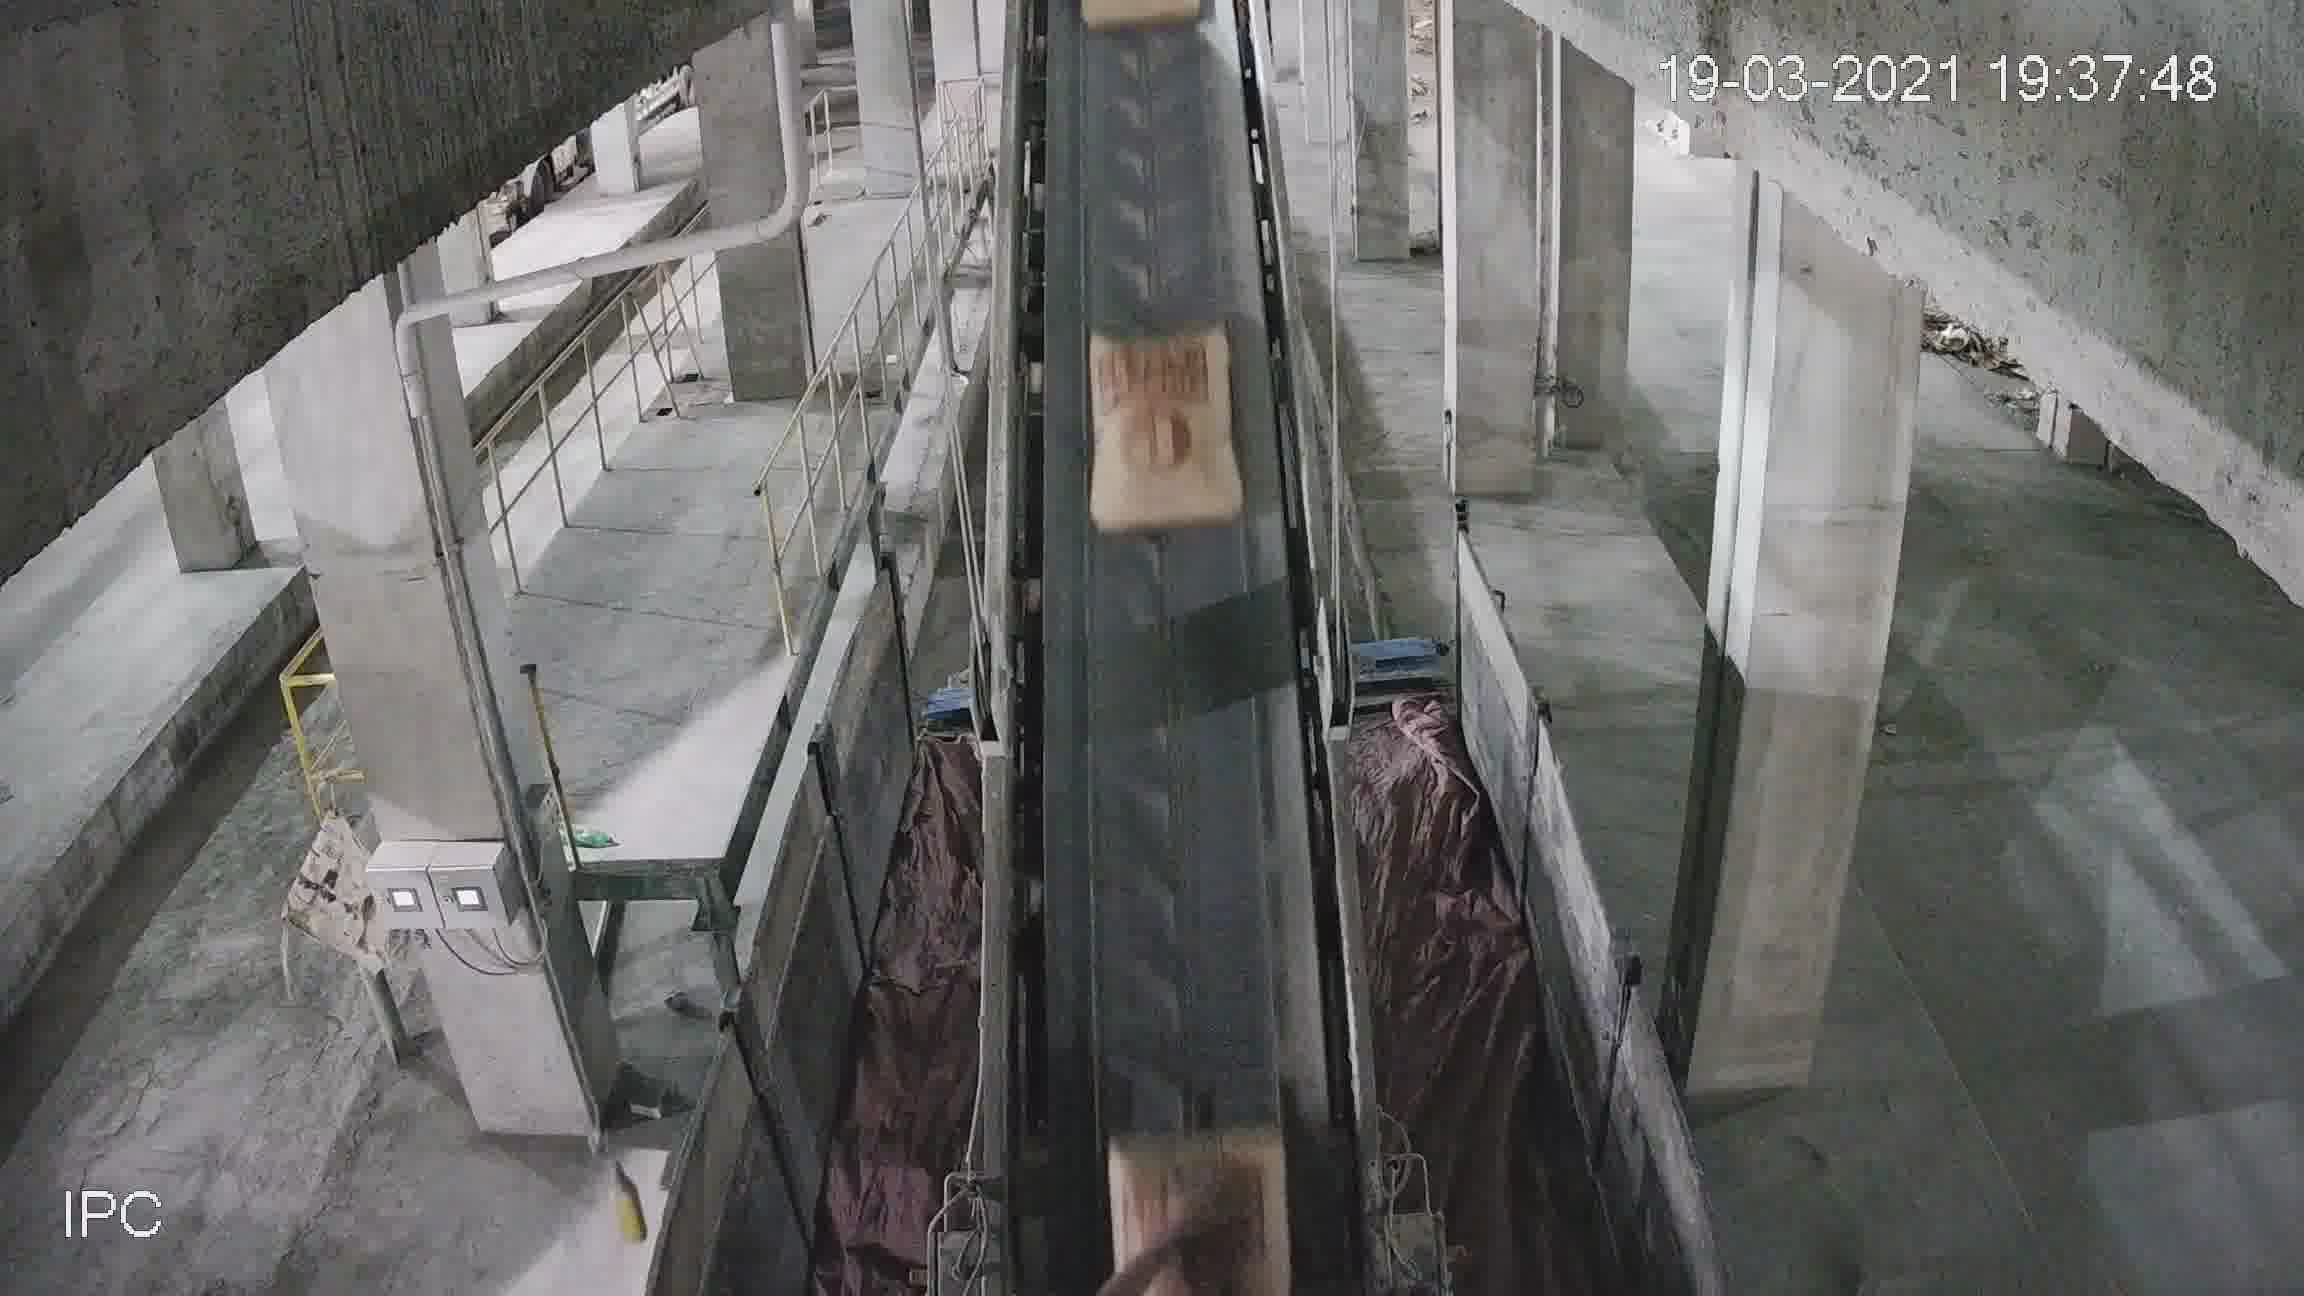bag: (1089, 313, 1239, 529), (1108, 1127, 1287, 1203)
belt: (980, 68, 1339, 1133)
